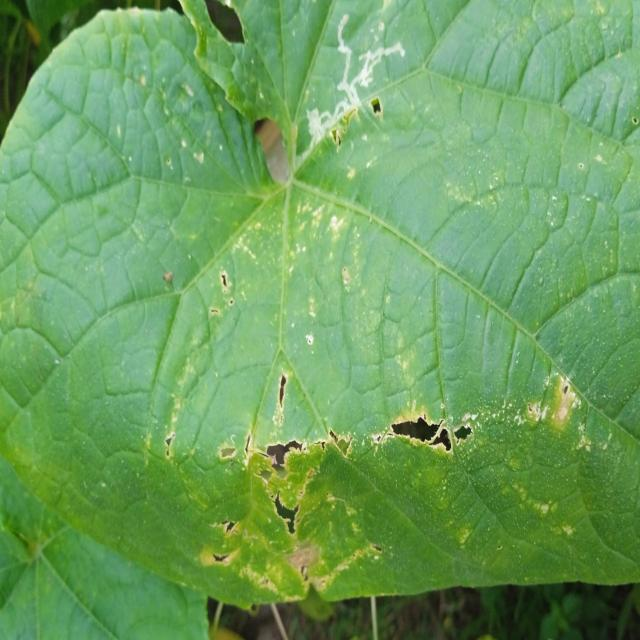cucumber_anthracnose: (111, 55, 588, 601)
